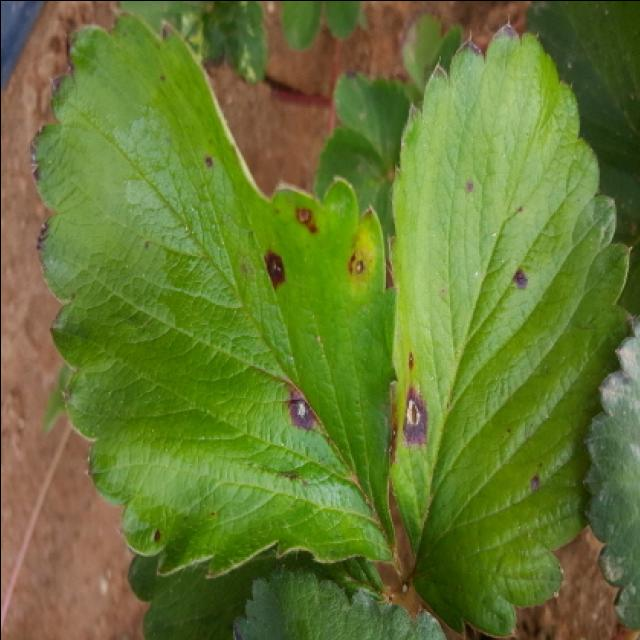Leaf Spot: (26, 10, 395, 579), (385, 20, 629, 635)
